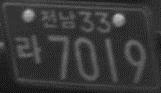0: (73, 36, 99, 82)
1: (103, 37, 120, 83)
3: (94, 11, 111, 34), (78, 10, 94, 32)
7: (47, 34, 70, 81)
9: (123, 37, 147, 84)
라: (14, 34, 42, 64)
전남_O: (40, 9, 76, 31)
